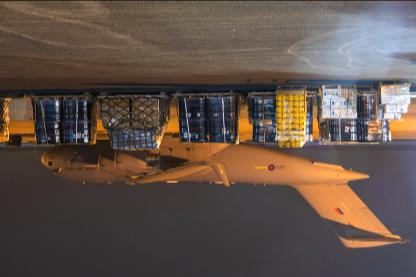C17: (41, 132, 412, 250)
